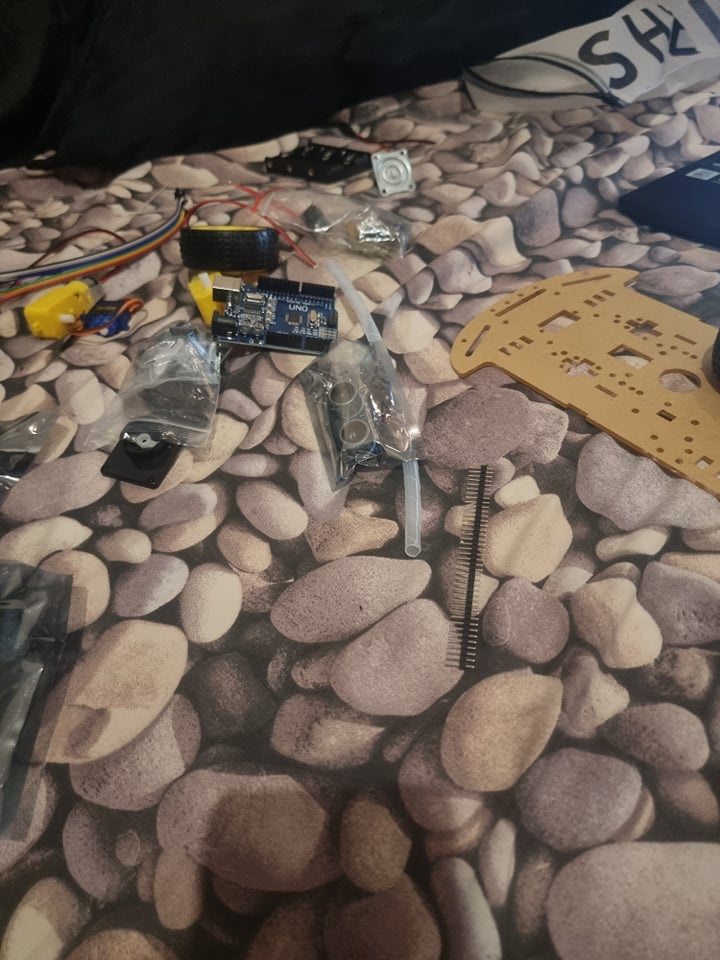BATTERY BOX: (258, 139, 371, 188)
SENSOR: (320, 377, 385, 464)
UNO R3: (205, 272, 339, 358)
